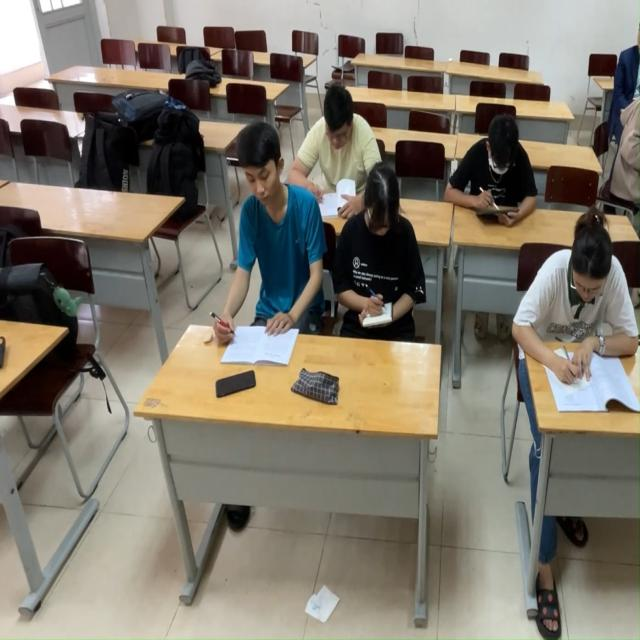read: (209, 132, 327, 370), (518, 212, 640, 419), (331, 167, 434, 360), (449, 97, 528, 231), (294, 77, 359, 213)
